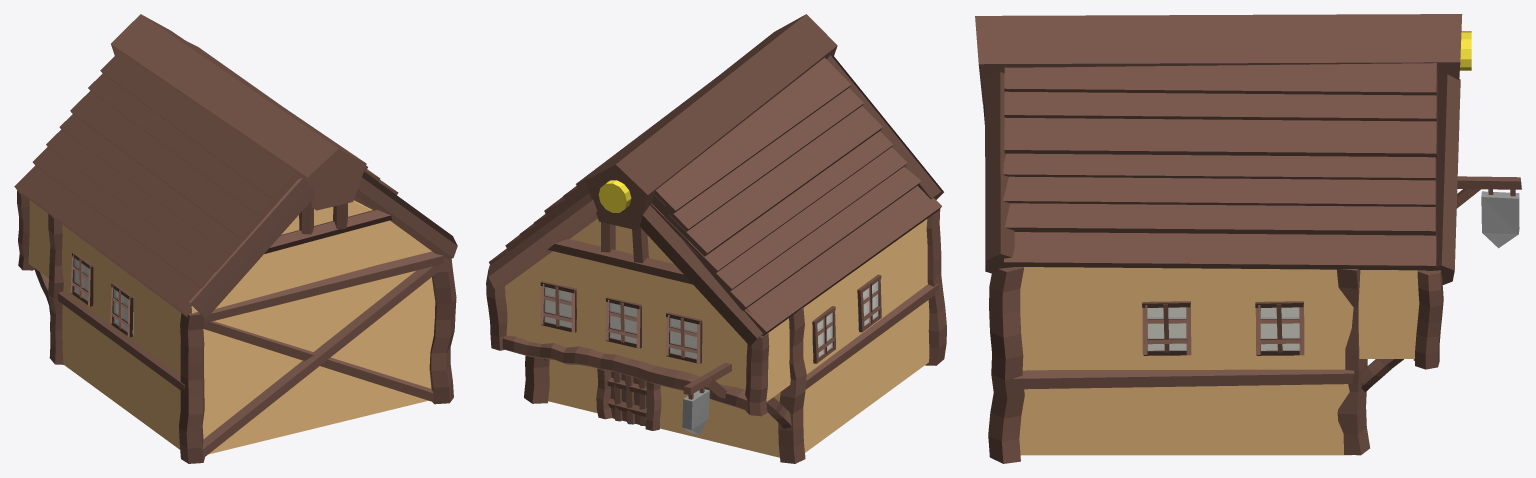
Rendered from urban_medium_2.fbx.
3 renders of one model, left to right at view 1: azimuth 30°, elevation 25°; view 2: azimuth 150°, elevation 25°; view 3: azimuth 270°, elevation 25°, orthographic. The views are drawn at different scales.
Parts seen in each view (by area): view 1: node_id116 (×24); view 2: node_id116 (×34); view 3: node_id116 (×25).
Part boxes in pixels (box(x1,y1,x2,y2)): node_id116 (×24): box(14, 14, 457, 463); node_id116 (×34): box(486, 14, 946, 463); node_id116 (×25): box(975, 14, 1521, 463).
Size of the model in its own units: 0.5036 by 0.512 by 0.6837.
